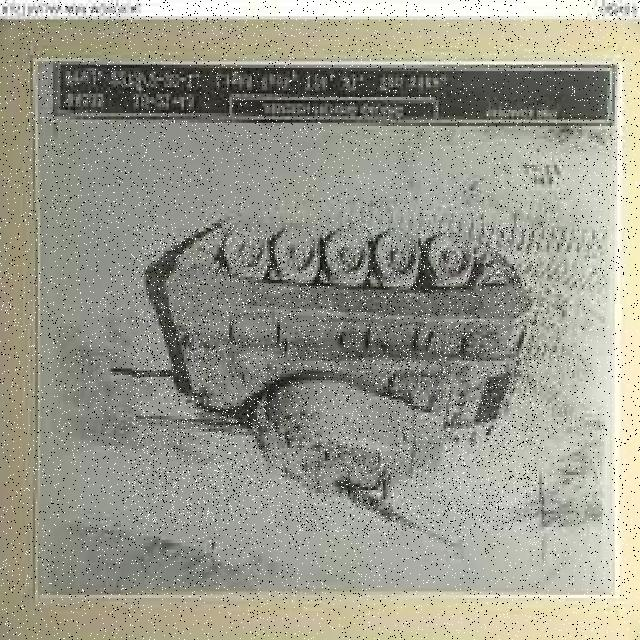MIL_MBT: (133, 225, 538, 530)
